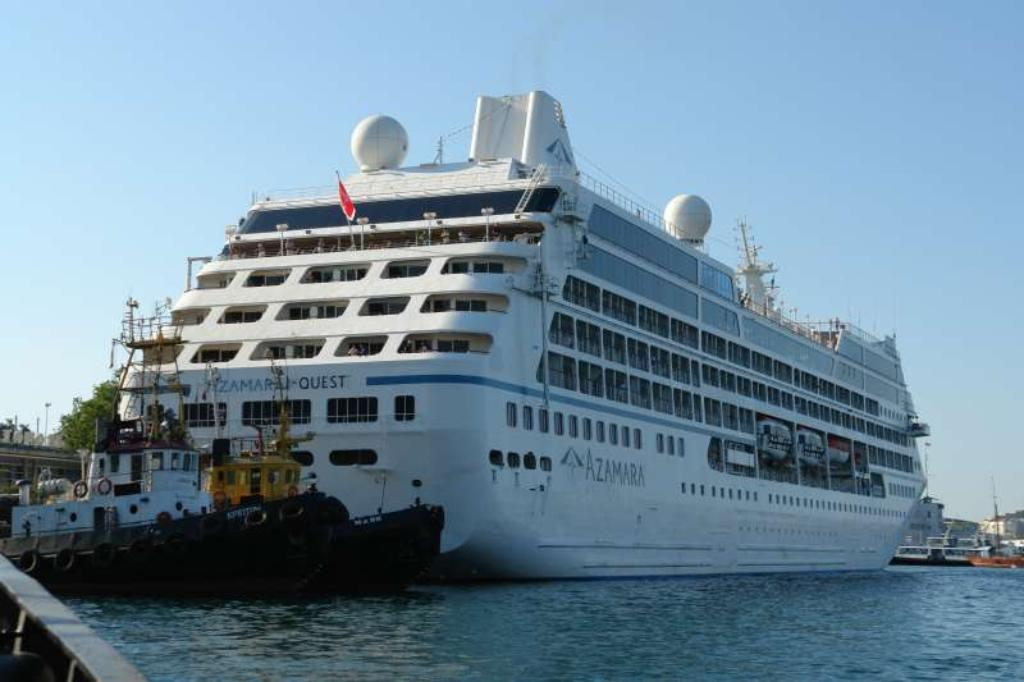PassengerShip: (66, 88, 938, 584)
